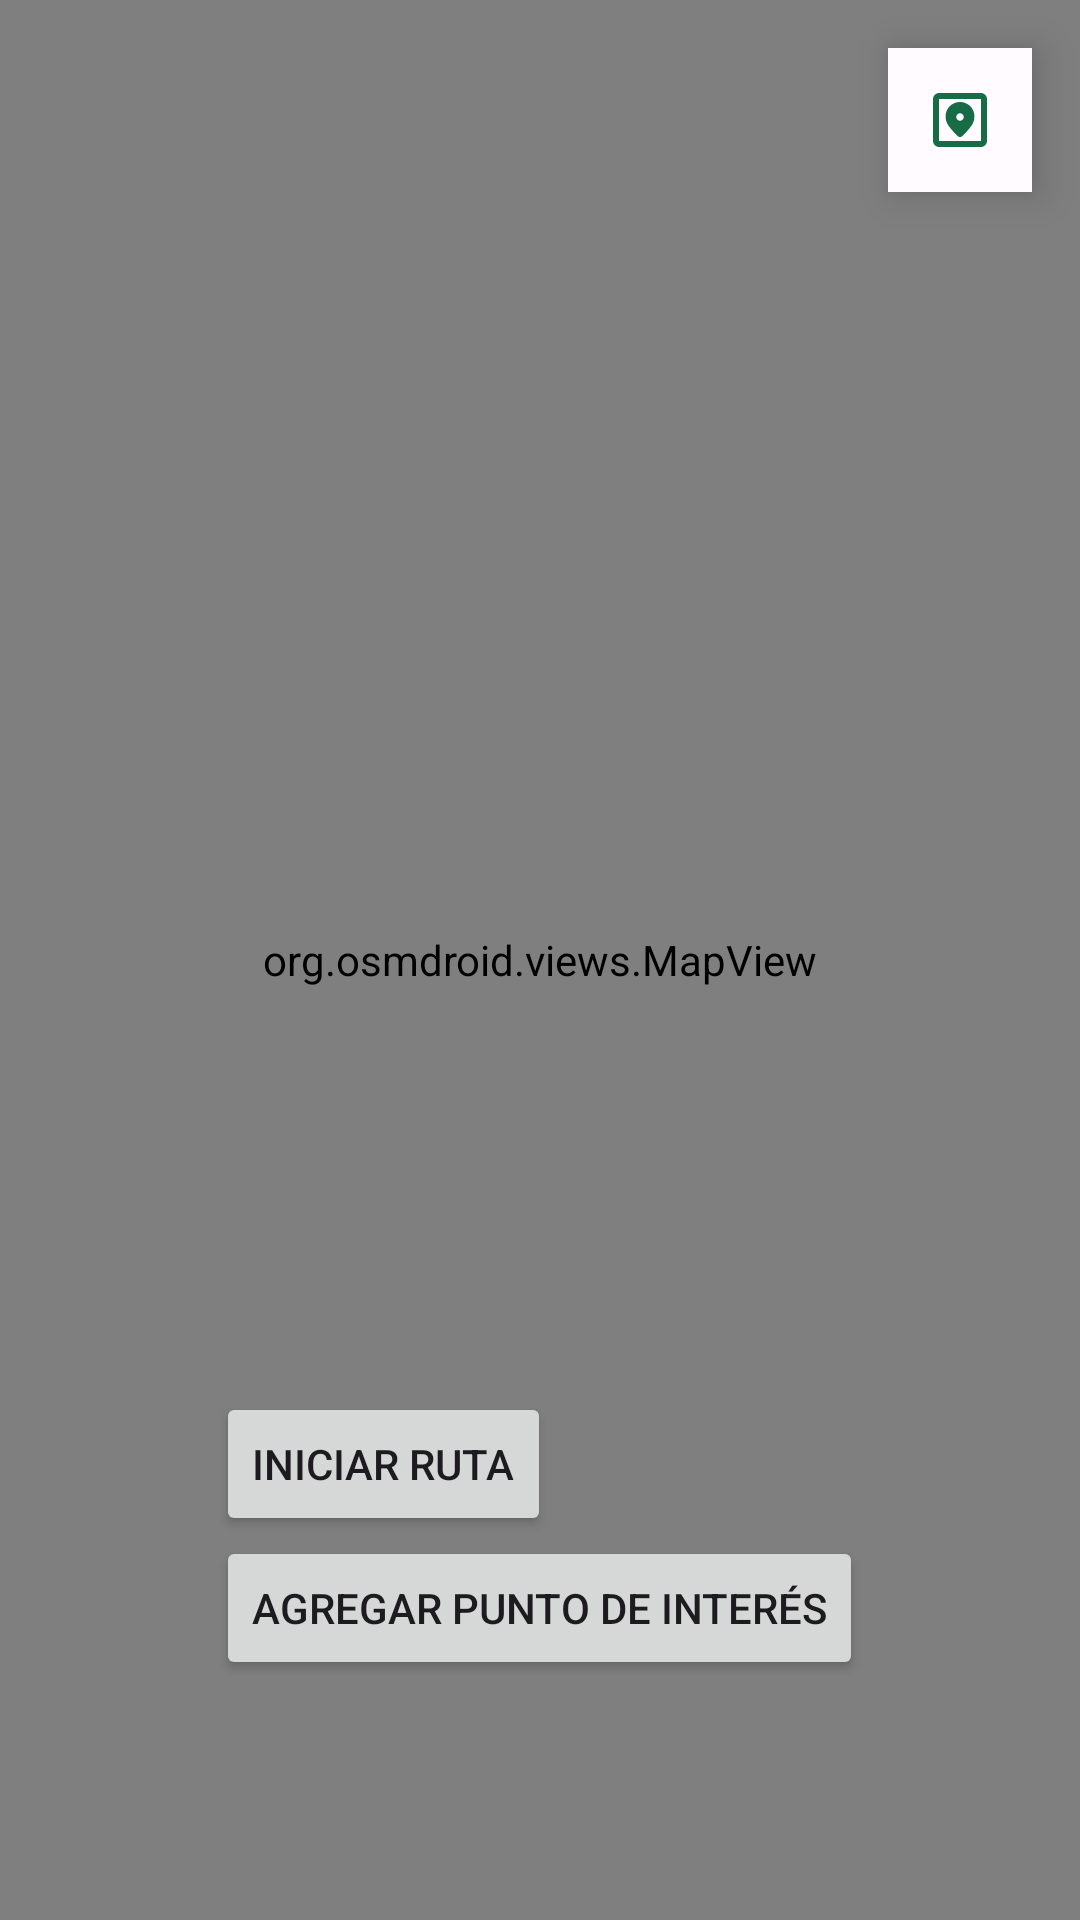

Named icons in this screenshot (1080x1920) and their bounding boxes, (x1,y1,x2,y2):
Elegir tipo de mapa: (888,48,1032,192)
